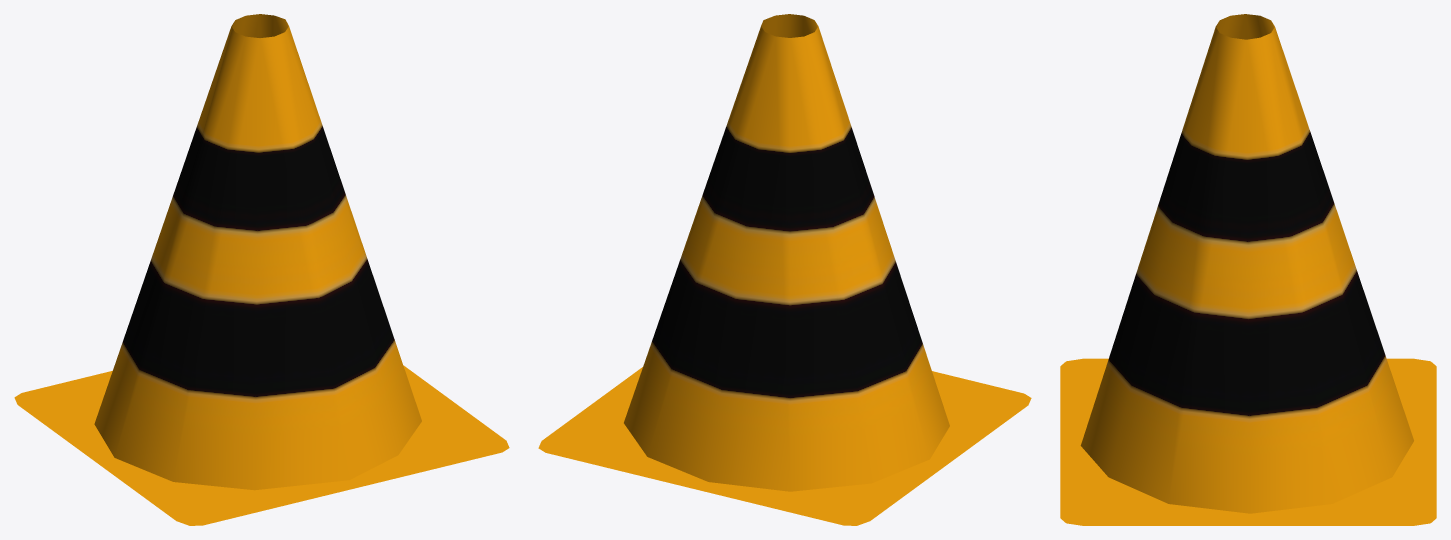
The model's file is traffic cone.dae.
3 views of the same model, side by side, from view 1: azimuth 30°, elevation 25°; view 2: azimuth 150°, elevation 25°; view 3: azimuth 270°, elevation 25° (orthographic). The views are drawn at different scales.
Visible parts, largest first — view 1: rect (×2); view 2: rect (×2); view 3: rect (×2).
Part boxes in pixels (box(x1,y1,x2,y2)): rect (×2): box(14, 14, 509, 525); rect (×2): box(538, 14, 1031, 525); rect (×2): box(1060, 14, 1436, 525).
Size of the model in its own units: 1.41 by 1.63 by 1.34.
